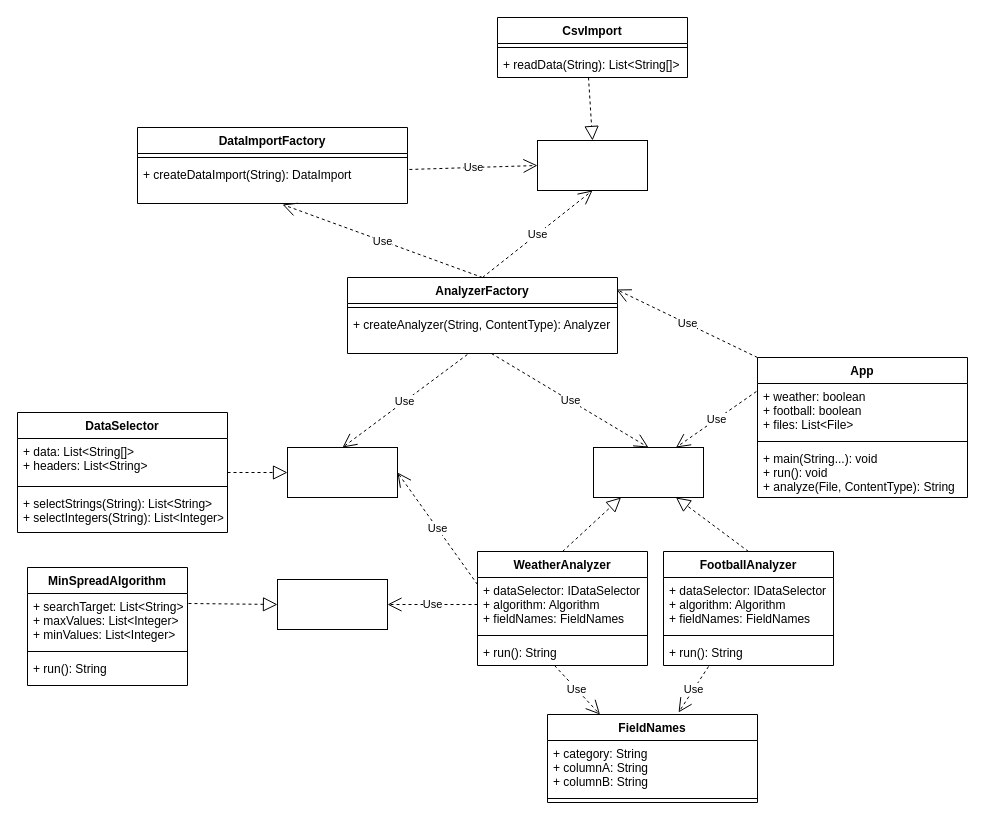
The diagram is 985 pixels wide and 820 high, and some of its shapes have lost their labels. The centre of each missing label's shape, as x and y in pixels:
«interface» Algorithm: the point at 332,604
«interface» Analyzer: the point at 648,472
«interface» DataImport: the point at 592,165
«interface» IDataSelector: the point at 342,472
